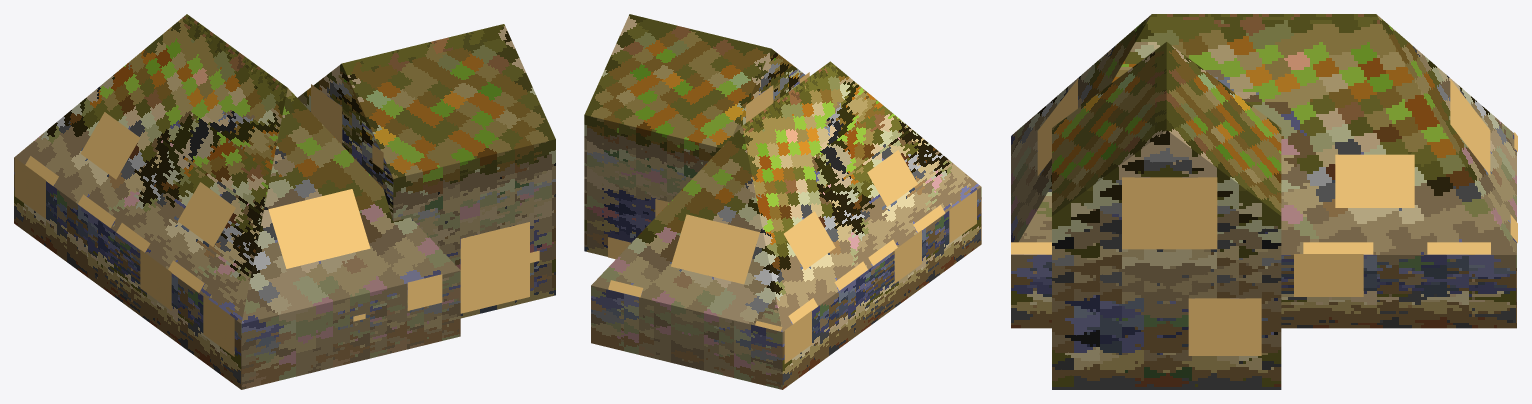
The model's file is dum_30_domy.glb.
The picture shows the model from 3 angles, left to right: view 1: azimuth 30°, elevation 25°; view 2: azimuth 150°, elevation 25°; view 3: azimuth 270°, elevation 25°; orthographic projection. The views are drawn at different scales.
Parts seen in each view (by area): view 1: object 1, noc; view 2: object 1, noc; view 3: object 1, noc.
Boxes of the visible parts, left/top/right/bottom form: object 1: left=14, top=14, right=555, bottom=389; noc: left=14, top=84, right=539, bottom=356; object 1: left=584, top=14, right=981, bottom=389; noc: left=608, top=72, right=976, bottom=363; object 1: left=1011, top=14, right=1516, bottom=389; noc: left=1011, top=79, right=1517, bottom=355.
Size of the model in its own units: 8.45 by 5.64 by 9.99.
1 material, 1 textured.
